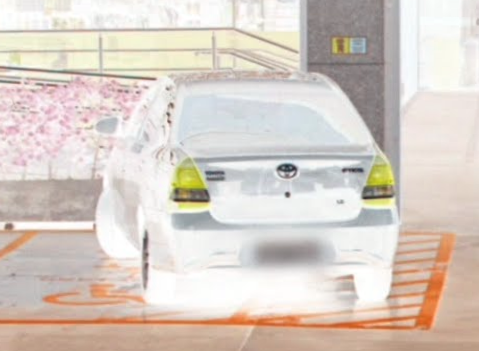car: (90, 64, 404, 311)
